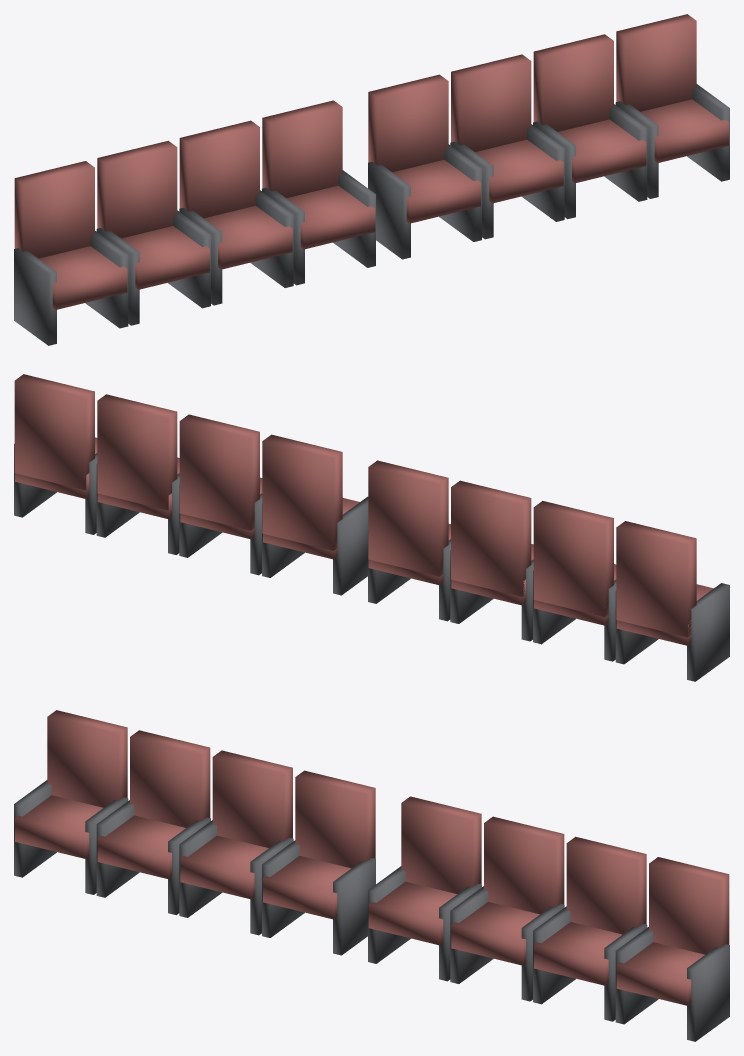
The model's file is theater_seat_row__cluster.glb.
The picture shows the model from 3 angles, top to bottom: view 1: azimuth 30°, elevation 25°; view 2: azimuth 150°, elevation 25°; view 3: azimuth 330°, elevation 25°; orthographic projection.
Parts seen in each view (by area): view 1: world; view 2: world; view 3: world.
Part boxes in pixels (x1,y1,x2,y2): world: [14, 14, 729, 345]; world: [14, 374, 729, 681]; world: [14, 710, 729, 1041].
Bounding box in the file's own units: 4.78 × 0.93 × 0.505.
